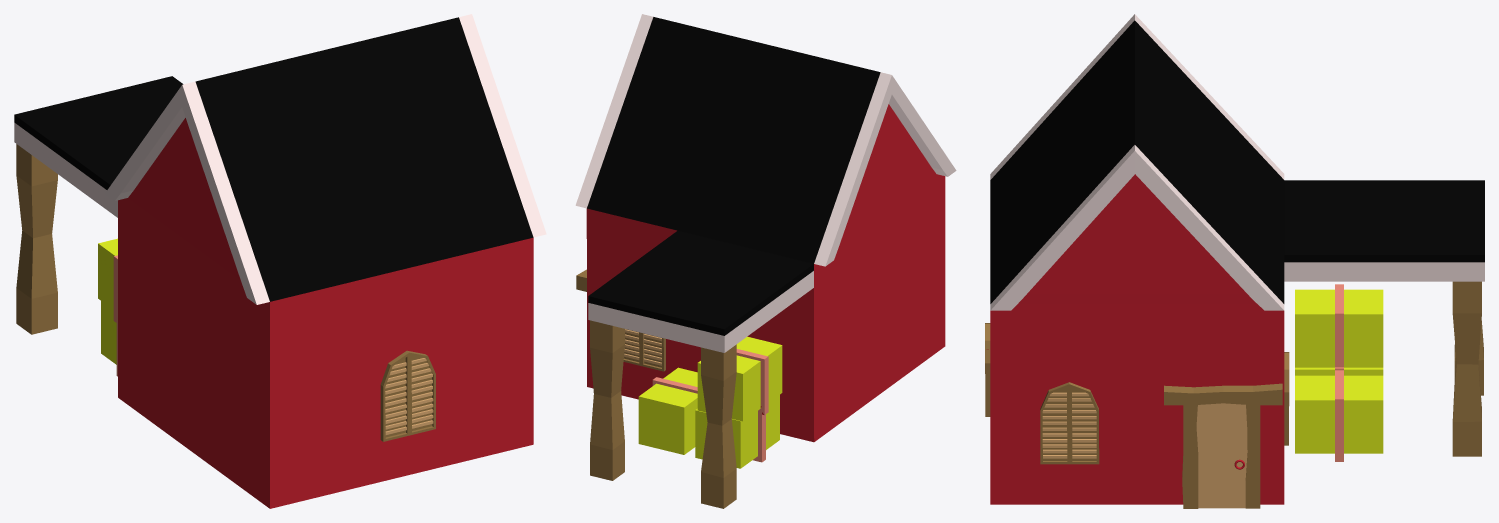
The model's file is Farmhouse.fbx.
3 renders of one model, left to right at view 1: azimuth 30°, elevation 25°; view 2: azimuth 150°, elevation 25°; view 3: azimuth 270°, elevation 25°, orthographic. The views are drawn at different scales.
Parts seen in each view (by area): view 1: Farmhouse; view 2: Farmhouse; view 3: Farmhouse.
Boxes of the visible parts, left/top/right/bottom form: Farmhouse: left=14, top=14, right=546, bottom=508; Farmhouse: left=575, top=14, right=956, bottom=508; Farmhouse: left=985, top=14, right=1484, bottom=508.
Size of the model in its own units: 1100 by 1381 by 1700.
